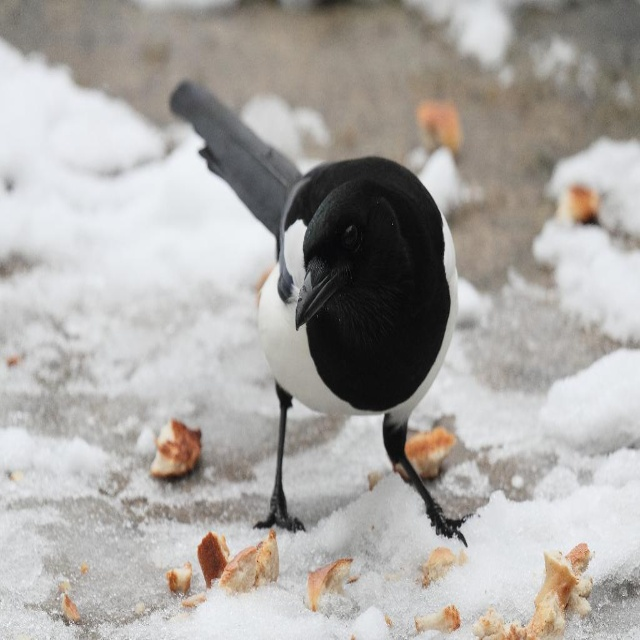Magpie: (168, 80, 472, 549)
